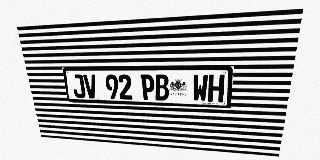2: (118, 74, 132, 100)
9: (105, 74, 119, 99)
B: (154, 74, 169, 101)
H: (208, 74, 225, 102)
J: (71, 74, 86, 98)
P: (140, 74, 155, 100)
V: (83, 74, 98, 98)
W: (192, 74, 208, 102)
